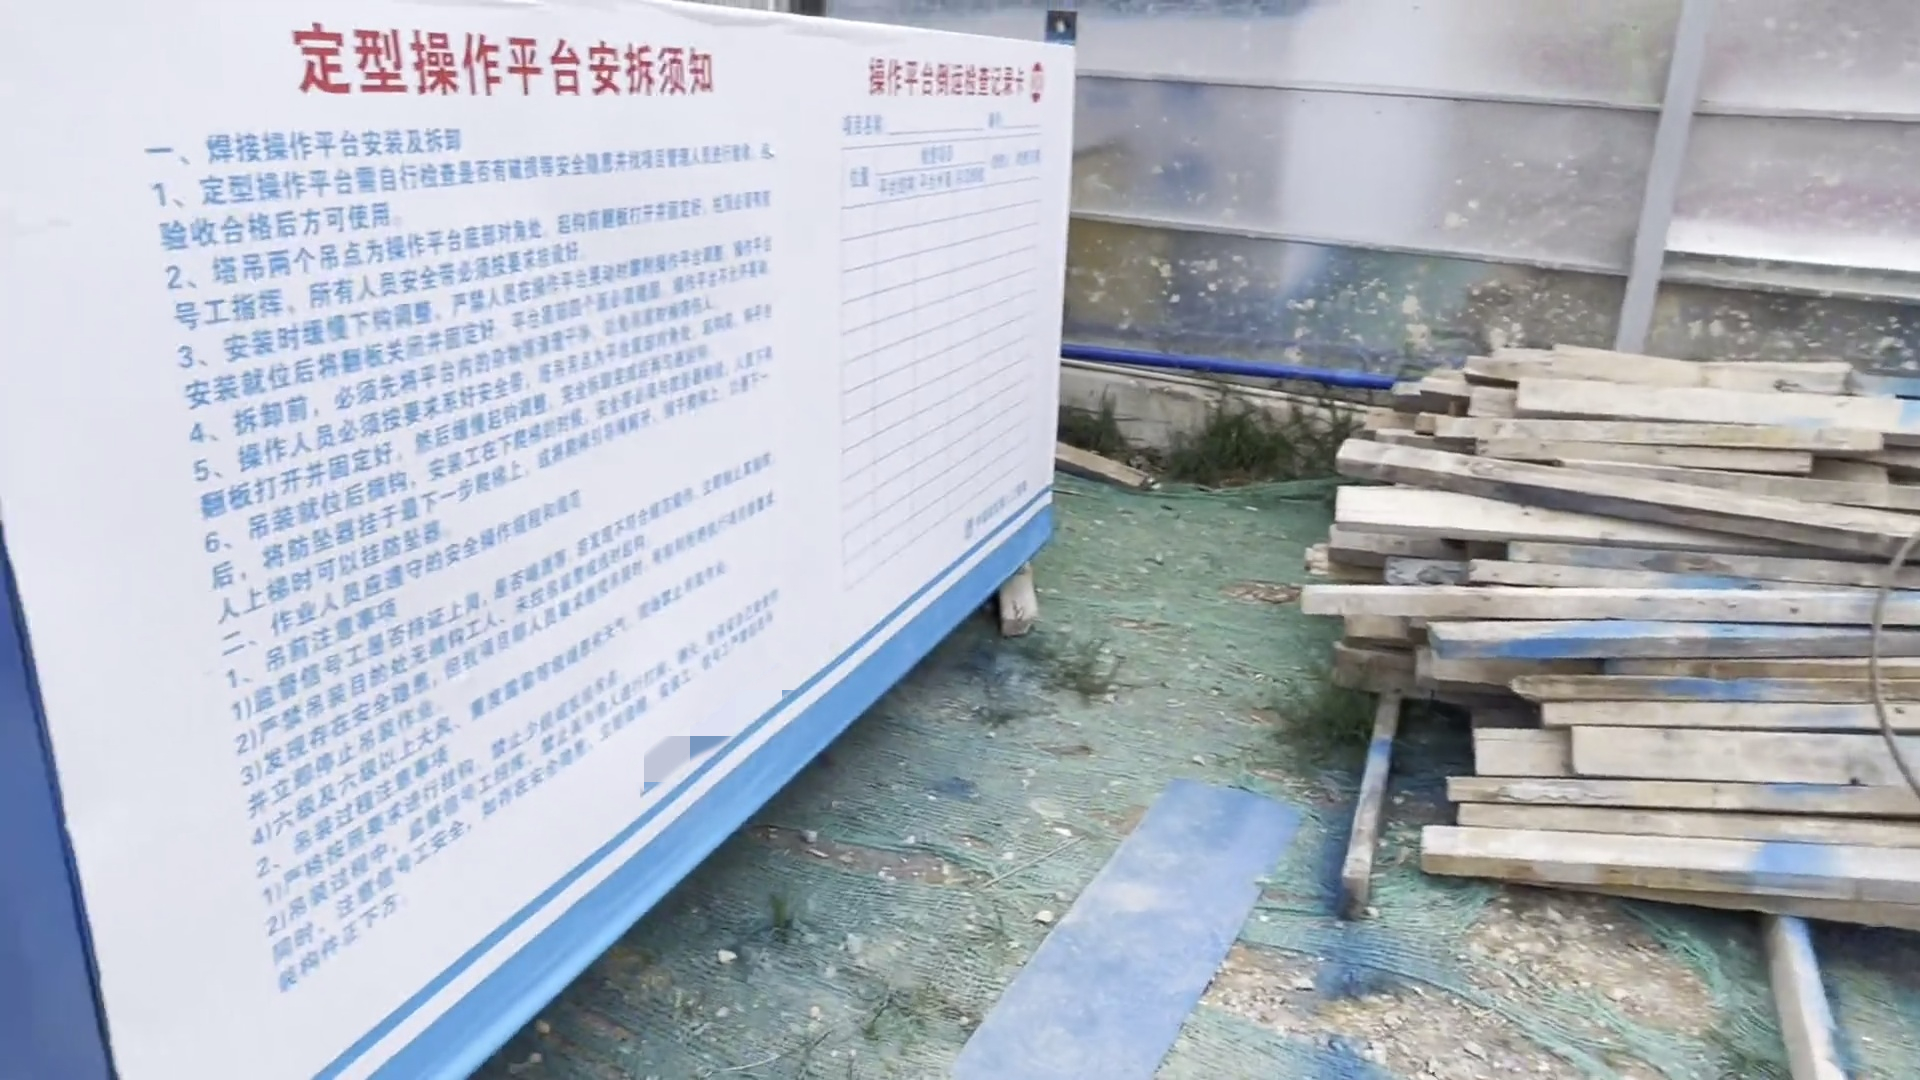wood: (1303, 320, 1920, 938)
